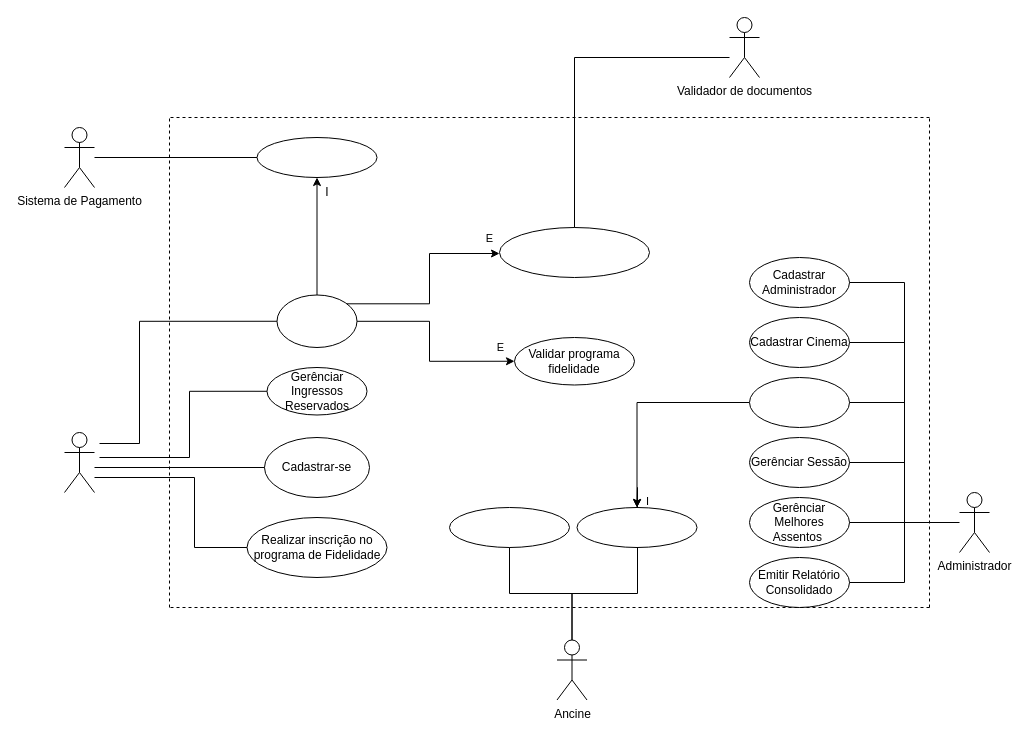
This 1029x738 diagram has some shape labels left out. Each missing label, with the centre of its shape:
"Cliente" belongs at [79,462].
"Gerenciar Filme" belongs at [799,402].
"Gerênciar Transação" belongs at [316,157].
"Listar Filmes" belongs at [636,527].
"Receber Relatórios" belongs at [509,527].
"Reservar Ingresso" belongs at [316,321].
"Validar documento de meia-entrada" belongs at [574,252].
